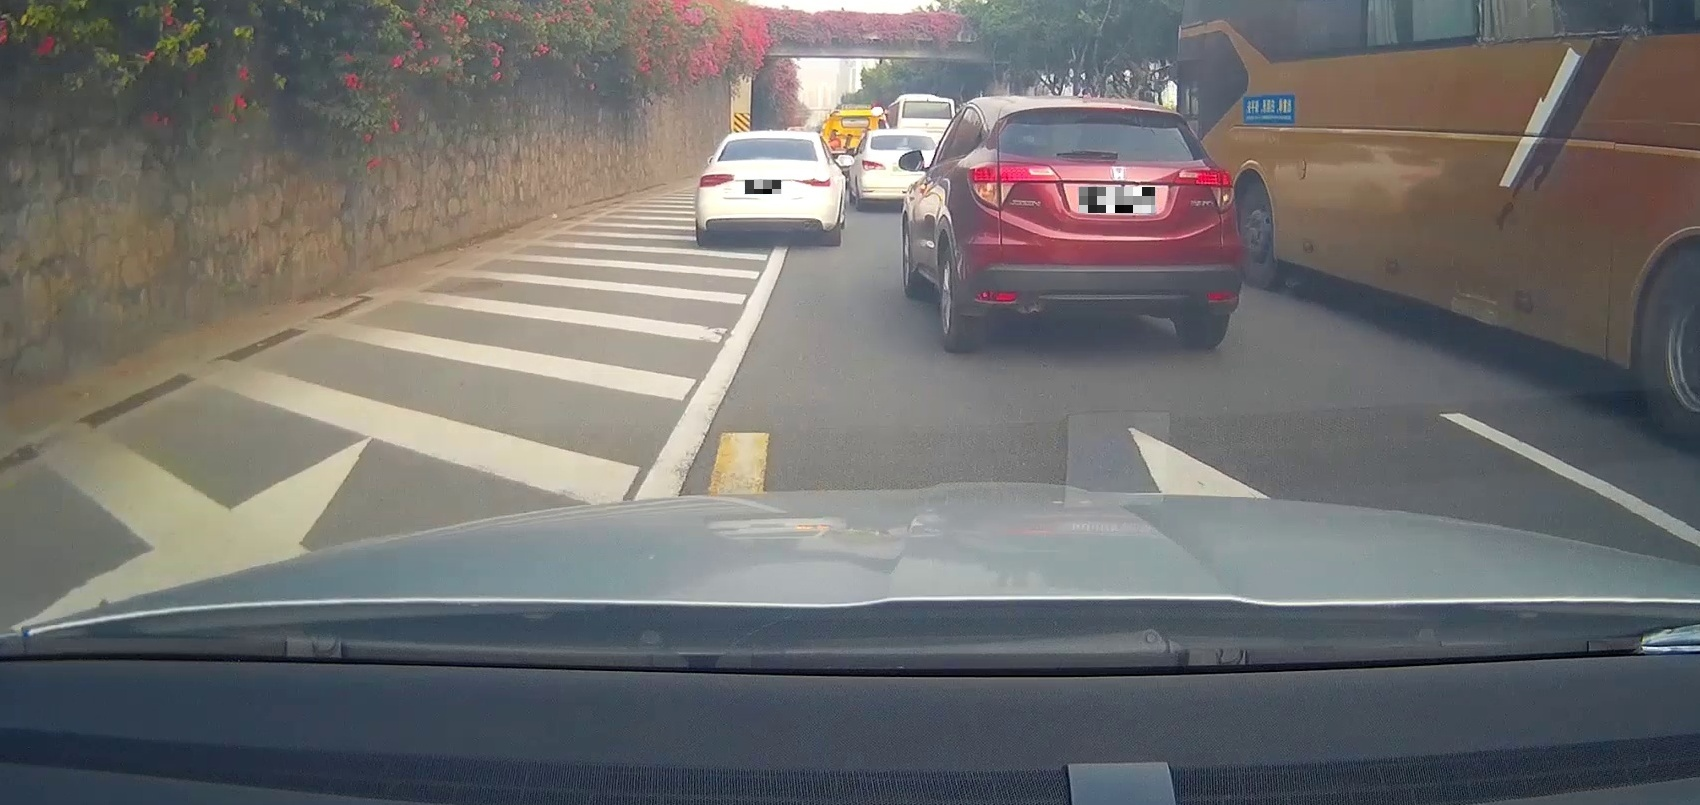L_light: (966, 161, 1060, 210), (699, 173, 733, 187)
R_light: (1174, 166, 1236, 212), (797, 174, 830, 187)
T_light: (1085, 105, 1128, 112), (756, 137, 780, 142)
day-no: (963, 99, 1238, 346)
day-right: (696, 129, 834, 245)
plate_1: (745, 180, 781, 194)
plate_2: (1079, 187, 1155, 213)
